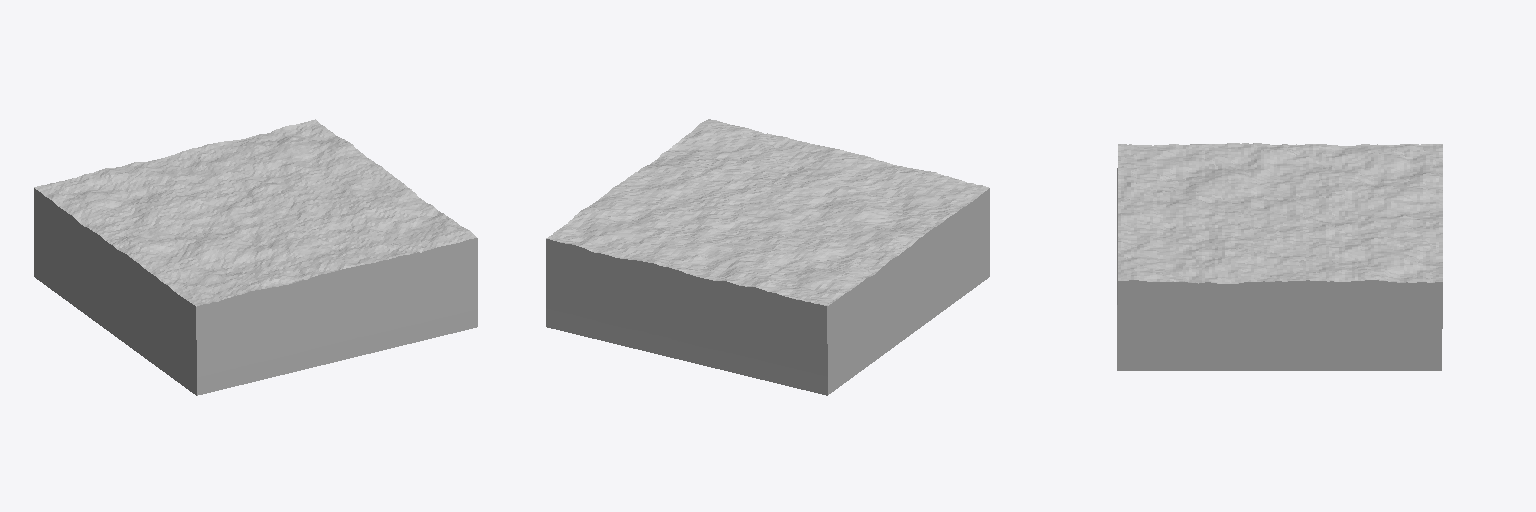
File: water_tank.obj
3 views of the same model, side by side, from view 1: azimuth 30°, elevation 25°; view 2: azimuth 150°, elevation 25°; view 3: azimuth 270°, elevation 25° (orthographic).
Parts seen in each view (by area): view 1: Object001; view 2: Object001; view 3: Object001.
Boxes of the visible parts, <box> form: Object001: <box>34,119,477,395</box>; Object001: <box>546,119,989,395</box>; Object001: <box>1117,143,1442,370</box>.
Bounding box in the file's own units: 560 × 175 × 560.